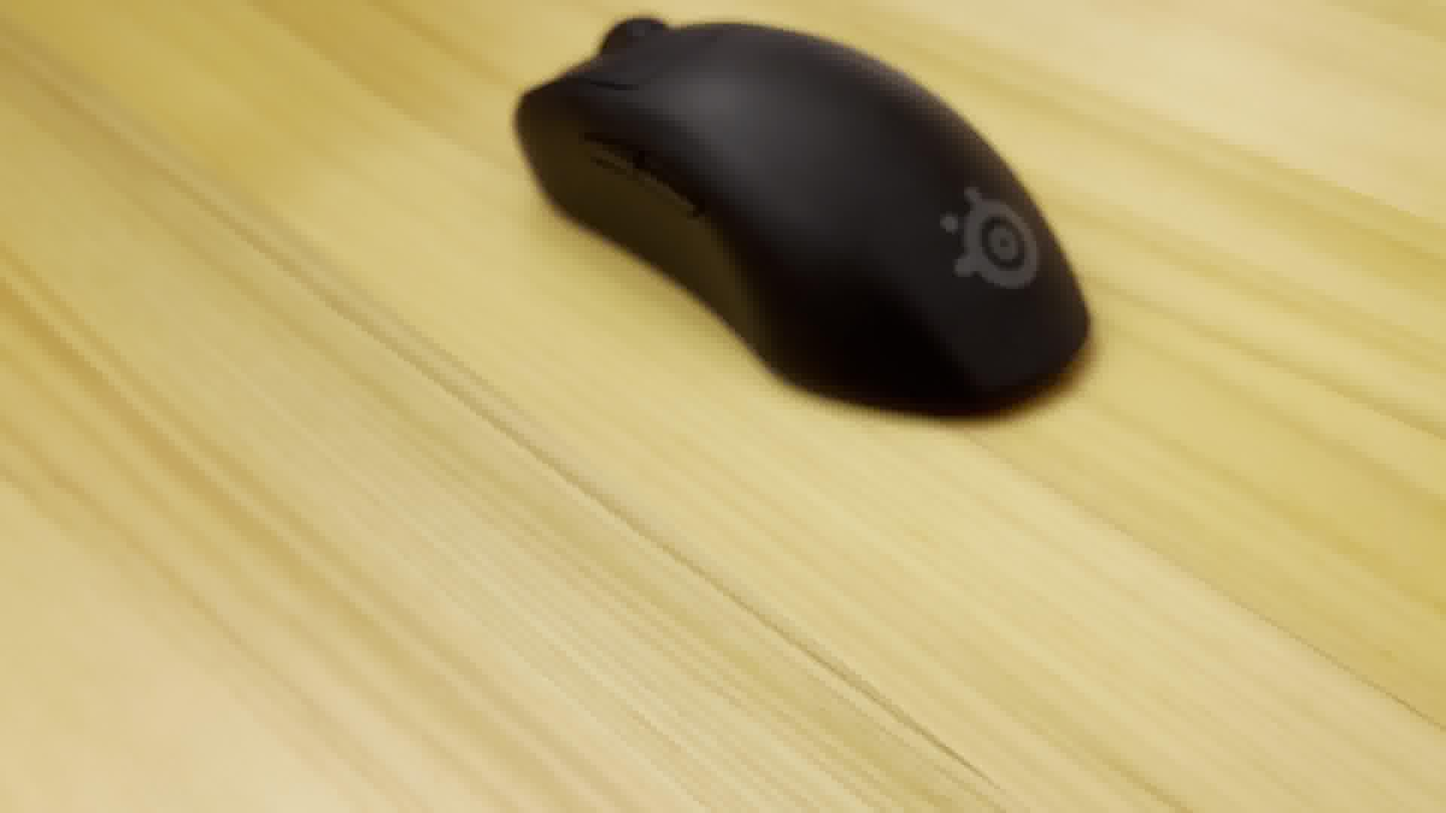mouse: (507, 9, 1115, 434)
